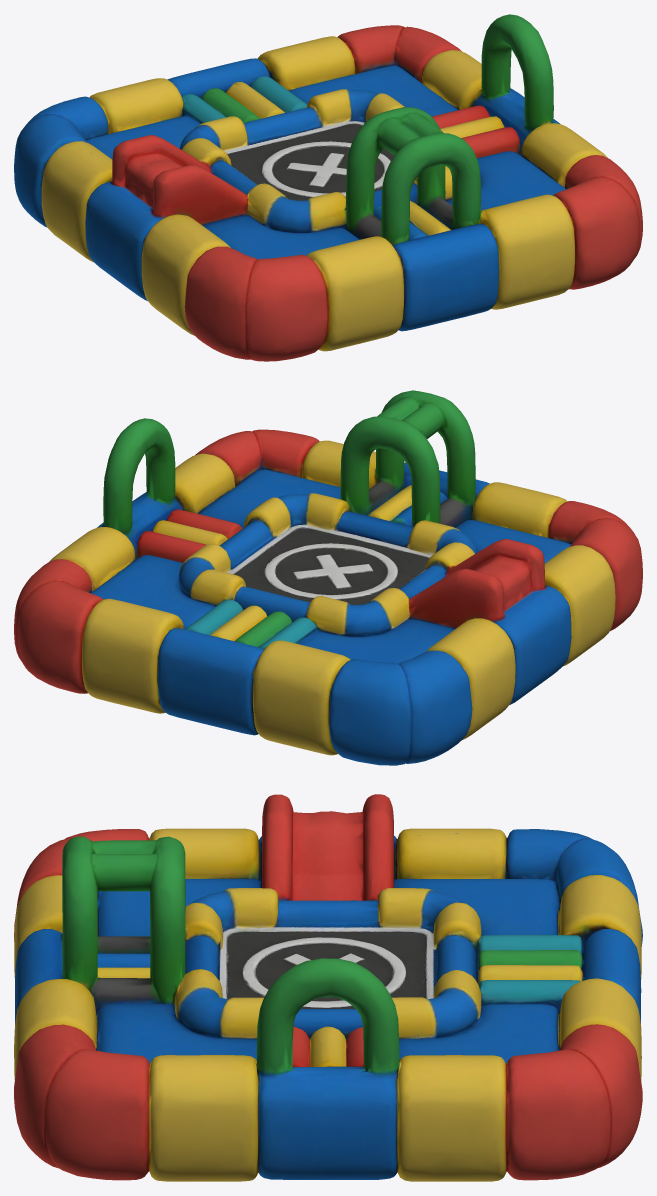
File: platform.glb
3 renders of one model, top to bottom at view 1: azimuth 30°, elevation 25°; view 2: azimuth 150°, elevation 25°; view 3: azimuth 270°, elevation 25°, orthographic. The views are drawn at different scales.
Visible parts, largest first — view 1: tripo_node_5f7b613a-beba-4d84-b90c-6e50698f1e2f; view 2: tripo_node_5f7b613a-beba-4d84-b90c-6e50698f1e2f; view 3: tripo_node_5f7b613a-beba-4d84-b90c-6e50698f1e2f.
Boxes of the visible parts, x1,y1,x2,y2 form: tripo_node_5f7b613a-beba-4d84-b90c-6e50698f1e2f: [14, 14, 642, 361]; tripo_node_5f7b613a-beba-4d84-b90c-6e50698f1e2f: [14, 390, 642, 765]; tripo_node_5f7b613a-beba-4d84-b90c-6e50698f1e2f: [14, 794, 642, 1181].
Bounding box in the file's own units: 1.29 × 0.5 × 1.29.
Materials: 1 (1 with a texture image).
